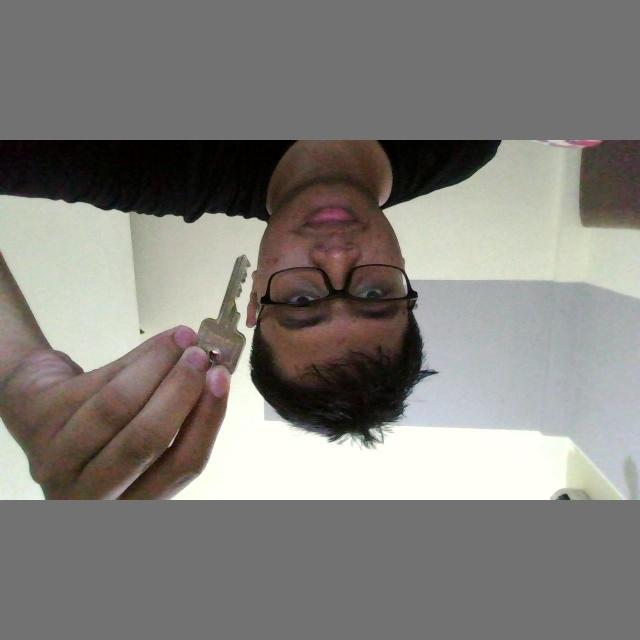Keys: (192, 248, 254, 384)
